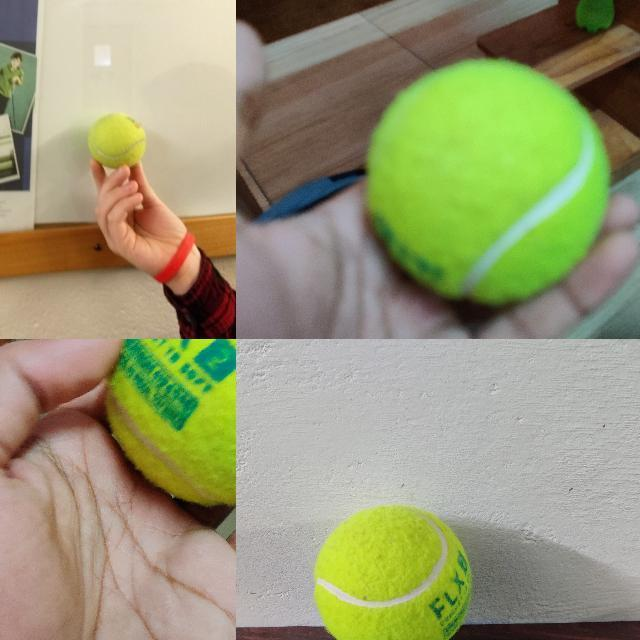tennis-ball: (366, 59, 606, 304), (104, 339, 235, 505), (313, 505, 473, 639), (86, 112, 146, 168)
